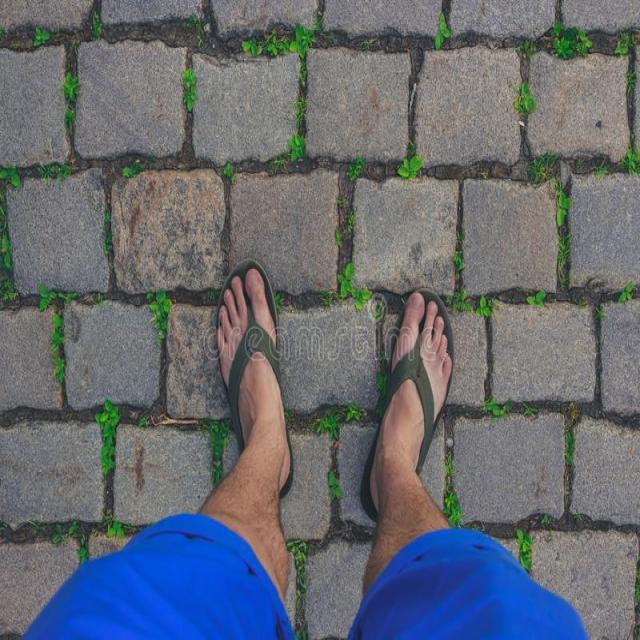No_Shoe: (196, 262, 290, 472), (390, 290, 450, 495)
